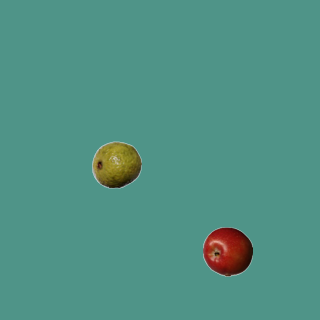Apple Braeburn: (202, 226, 252, 276)
Guava: (91, 139, 141, 189)
